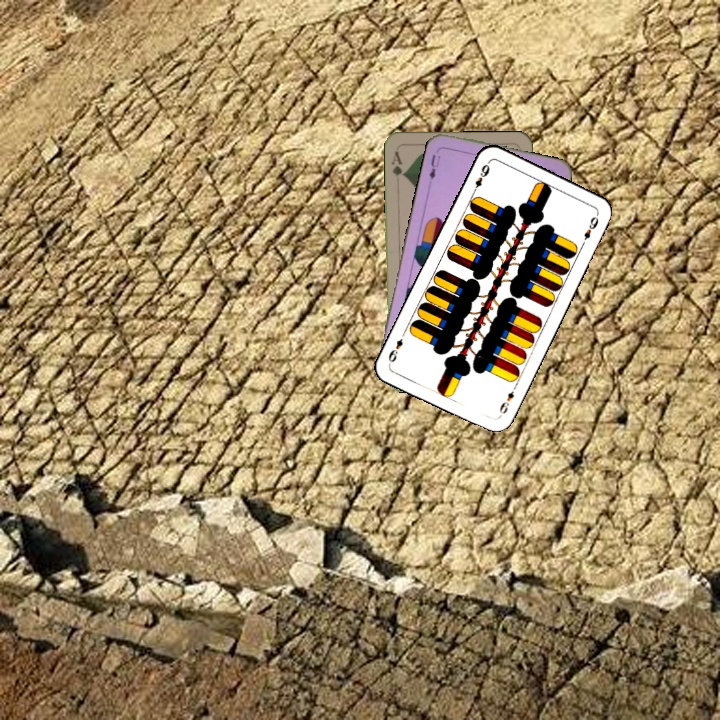E9: (468, 160, 492, 197), (495, 382, 519, 419)
EU: (425, 150, 443, 182)
GA: (387, 147, 407, 179)
